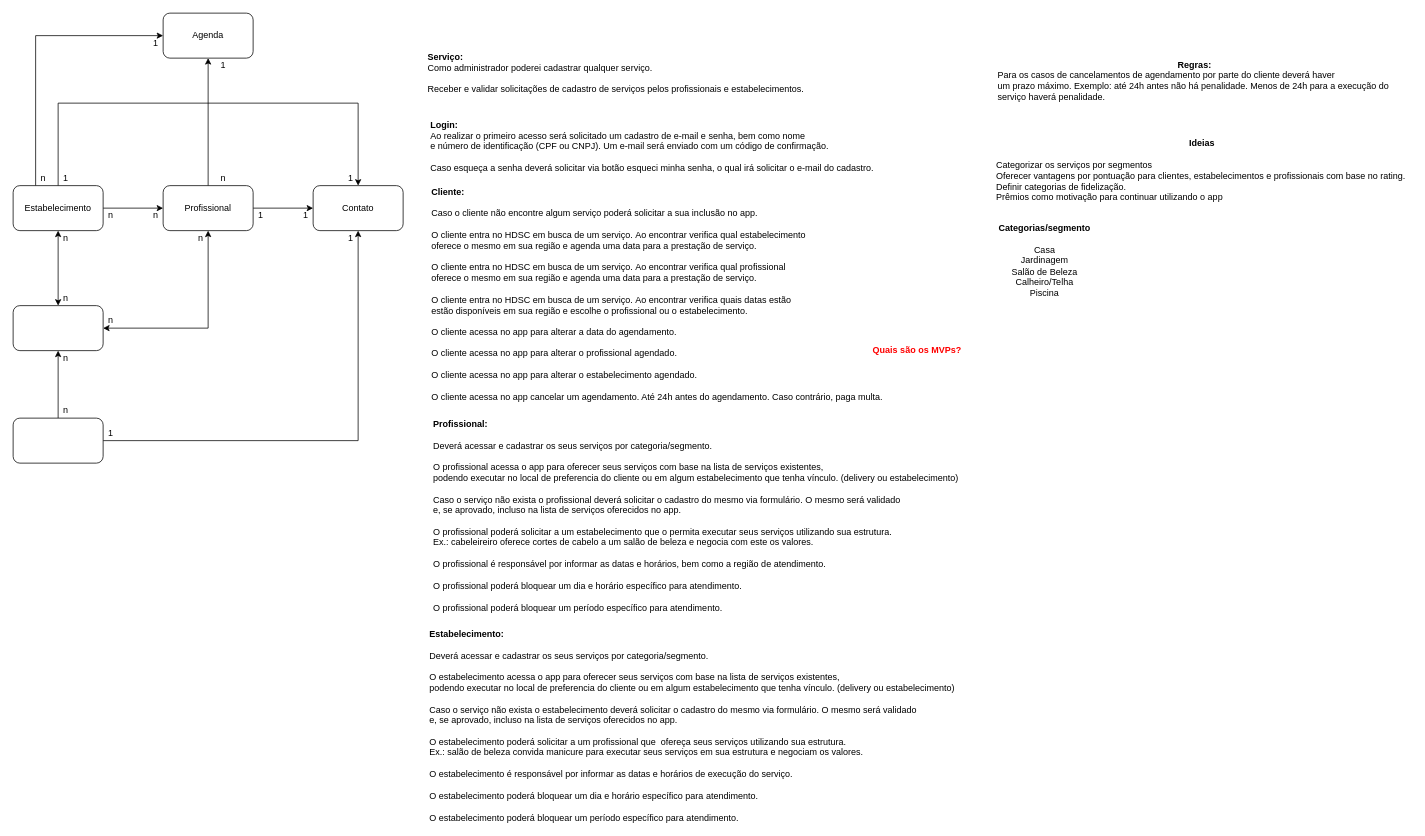
This 1425x836 diagram has some shape labels left out. The shapes that lost their labels are listed below. From the top down, each one's centre as x and y in pixels, then its label:
point 57,328: Servico
point 57,440: Cliente
